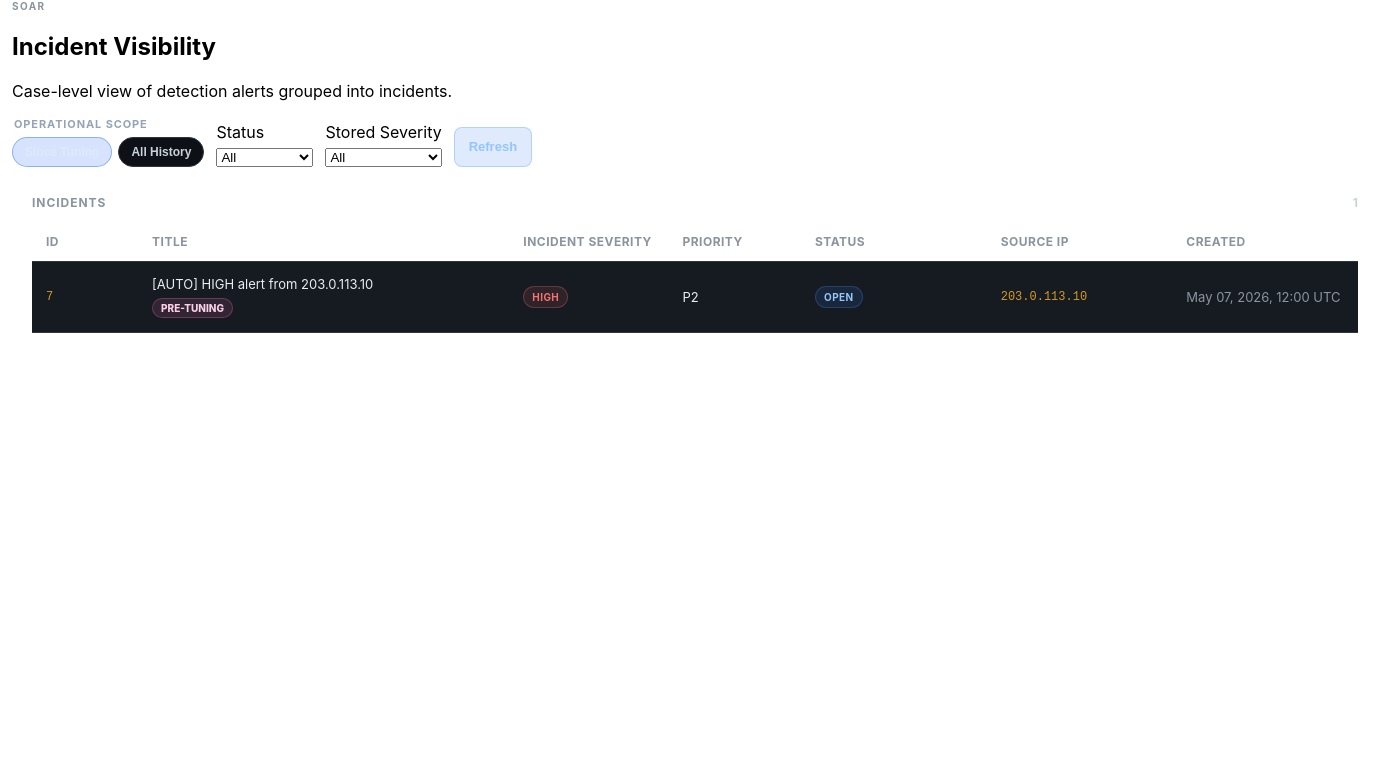
IncidentsPanel › renders empty timeline state
Click the text "[AUTO] HIGH alert from 203.0.113.10". click: (263, 284)
box: 152,276 -> 373,292
(page scrolled)
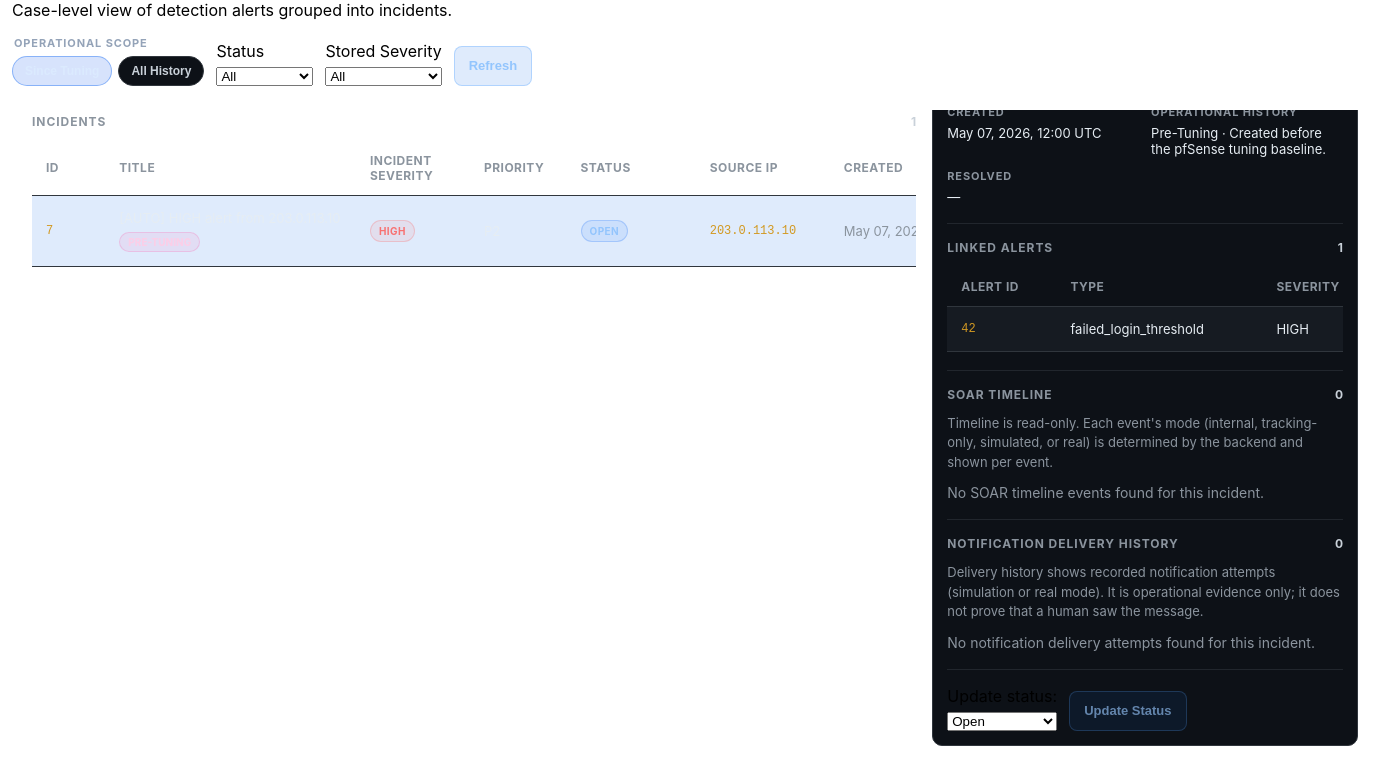
Expected: the text "No SOAR timeline events found for this incident." is shown, 947,484 -> 1264,501
